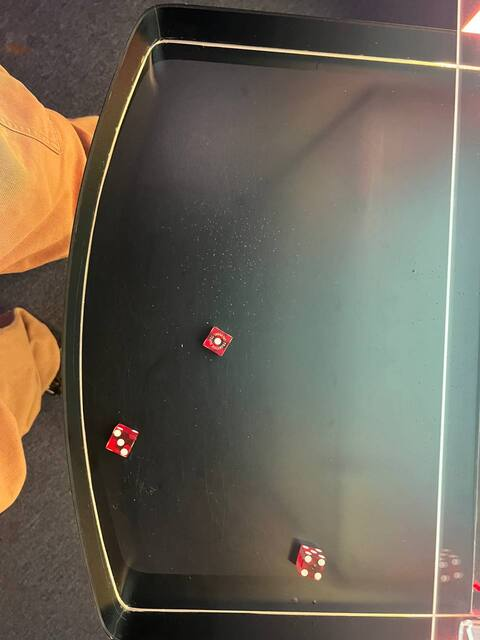four: (296, 553, 328, 583)
one: (200, 324, 235, 359)
three: (100, 426, 141, 459)
